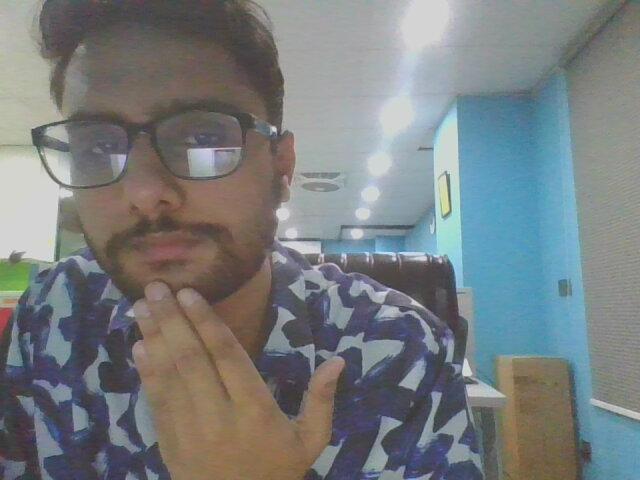thanks: (122, 274, 350, 480)
